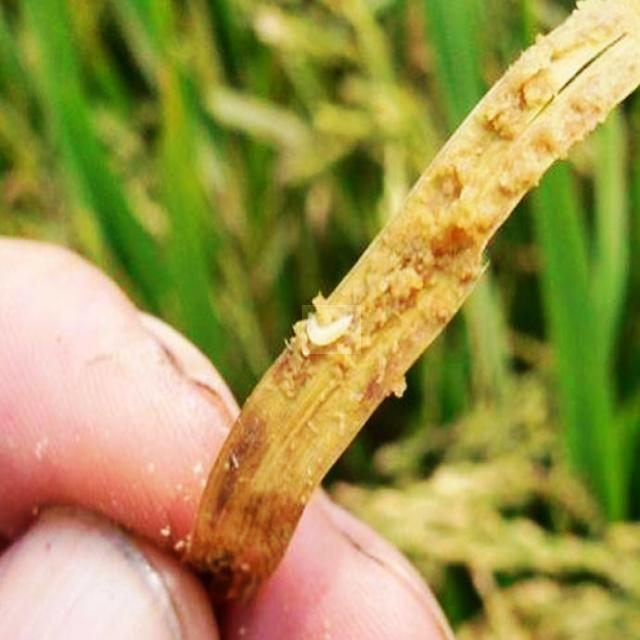whorl-maggot: (302, 305, 361, 354)
